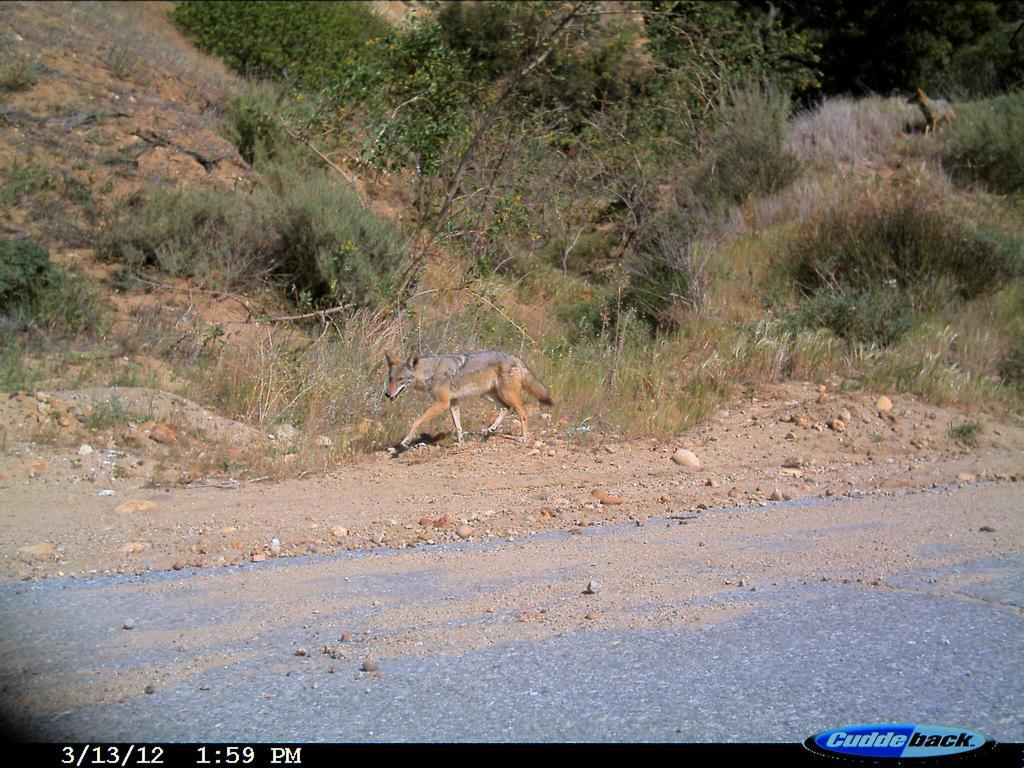coyote: (354, 297, 580, 472)
